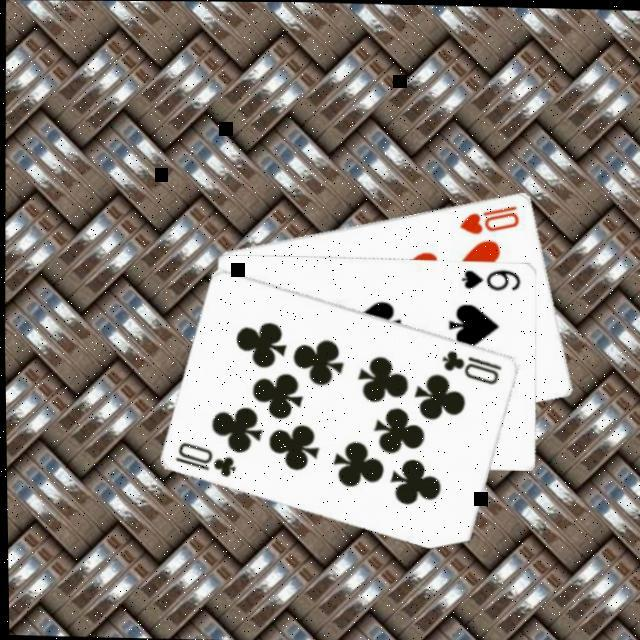10C: (169, 437, 237, 478), (436, 344, 503, 385)
10H: (454, 199, 521, 236)
6S: (456, 263, 521, 290)
